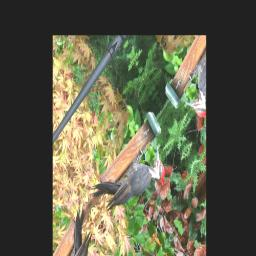Woodpecker: (89, 114, 172, 248)
